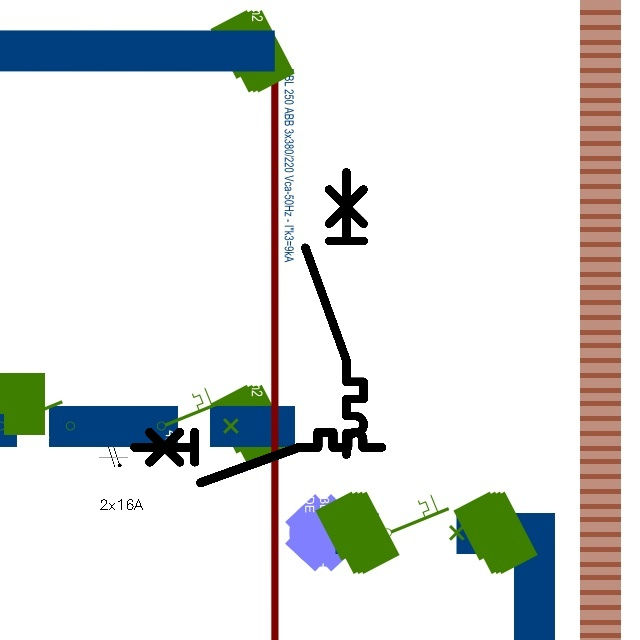interruptor_termomagnetico: (298, 165, 371, 462), (128, 426, 388, 489)
